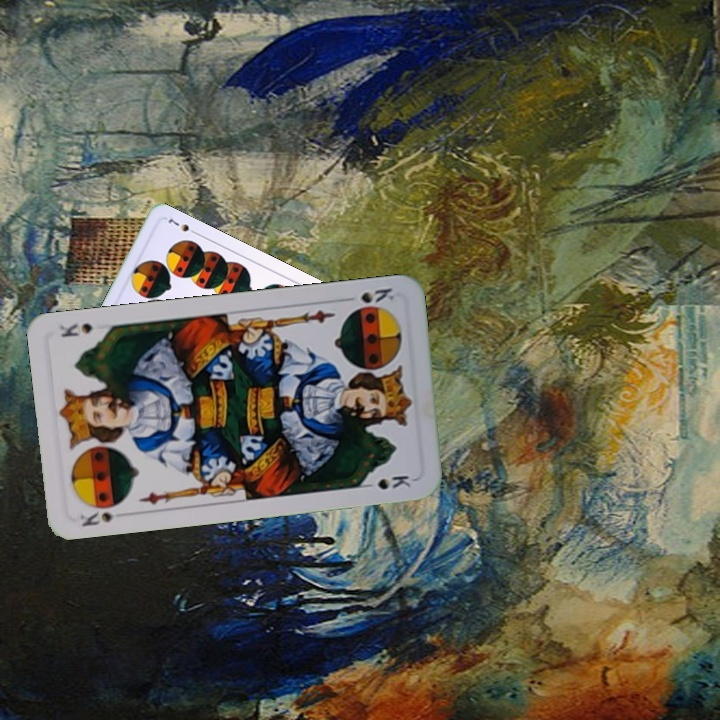SK: (75, 498, 126, 530), (356, 284, 397, 306)
